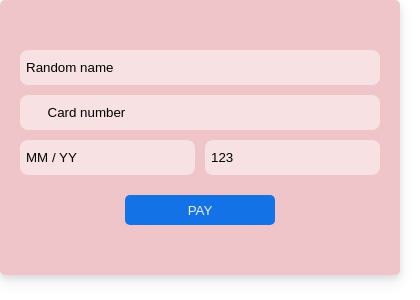
Test: CreditCardForm › handleSubmit › invalid input renders error
Click the element showing "PAY" at point(200, 210), box [125,195,275,225]
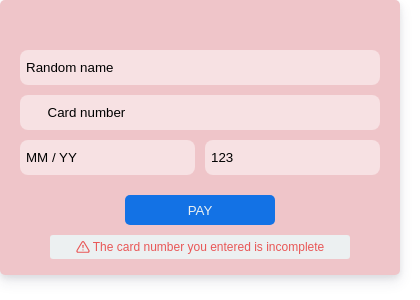
Result: the number of elements with class "error-message" is 1 at [90,240,324,254]
